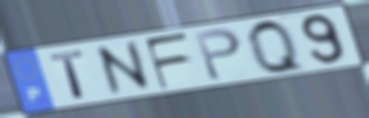9: (299, 11, 348, 68)
F: (142, 30, 193, 91)
N: (91, 38, 156, 99)
P: (192, 26, 244, 84)
Q: (245, 17, 310, 76)
T: (47, 48, 88, 101)
